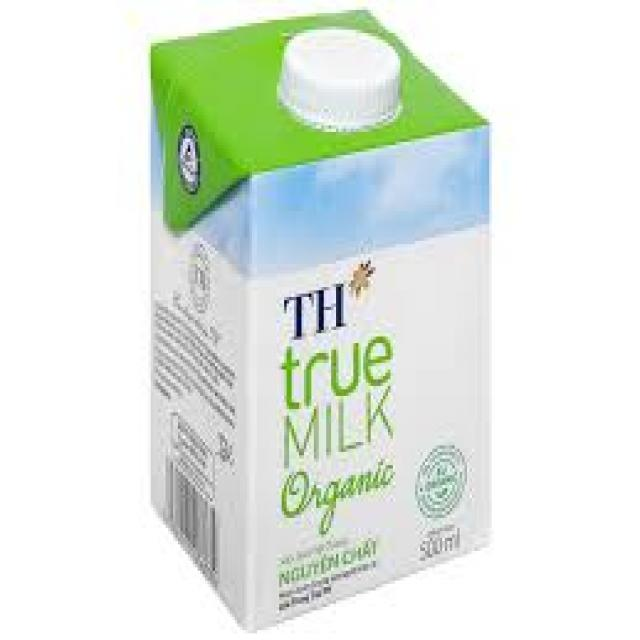non_white_jug: (132, 10, 498, 640)
